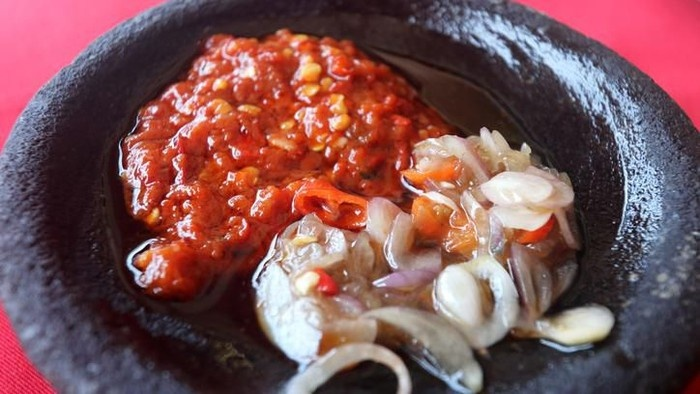sambal: (113, 27, 451, 295)
